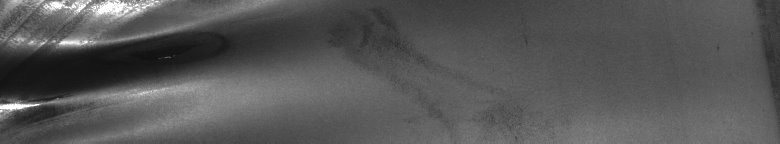ke: (4, 4, 425, 134)
